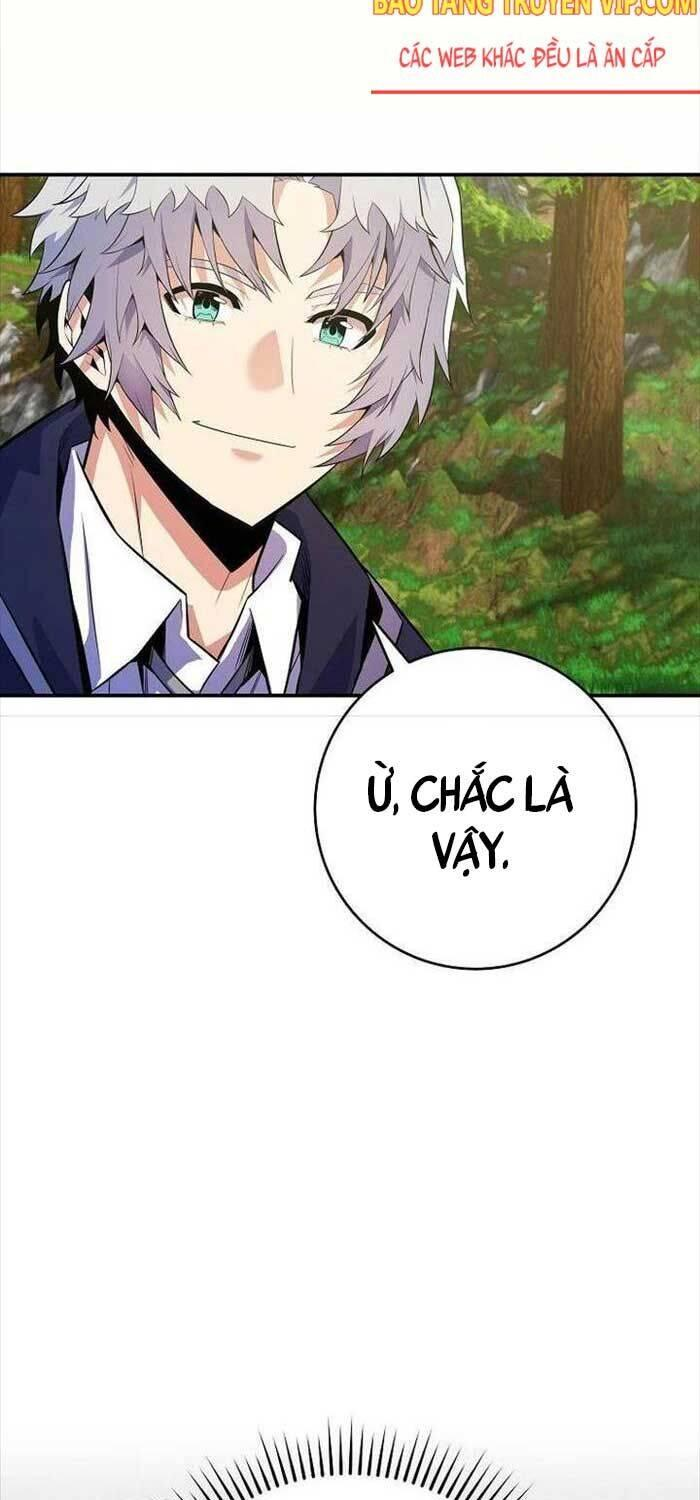quangcao: (366, 0, 700, 100)
